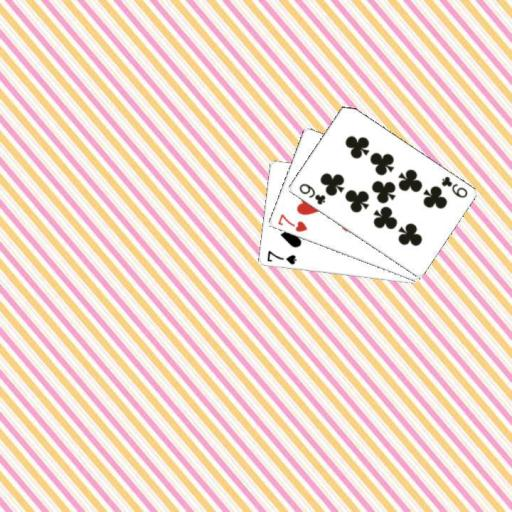7H: (275, 211, 309, 234)
7S: (263, 247, 298, 266)
9C: (437, 173, 469, 200), (295, 180, 327, 206)
